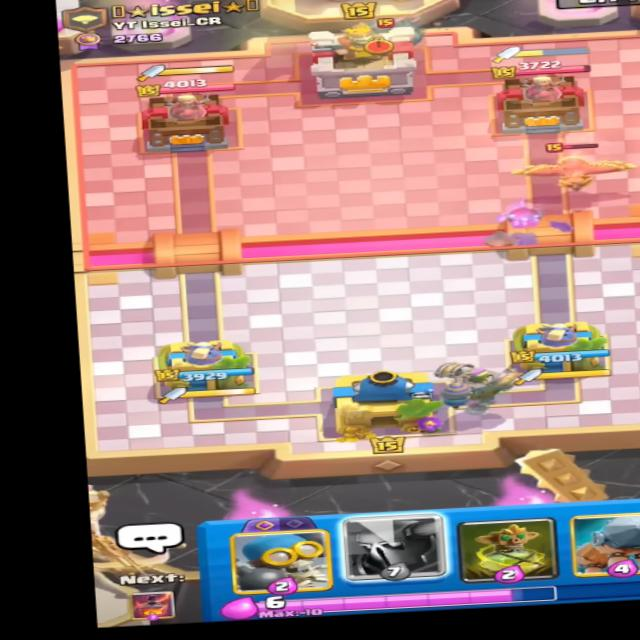pekka: (344, 5, 431, 48)
phoenix: (505, 135, 640, 194)
